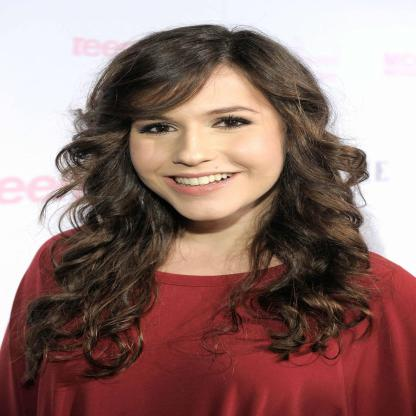long-hair: (56, 223, 380, 256)
